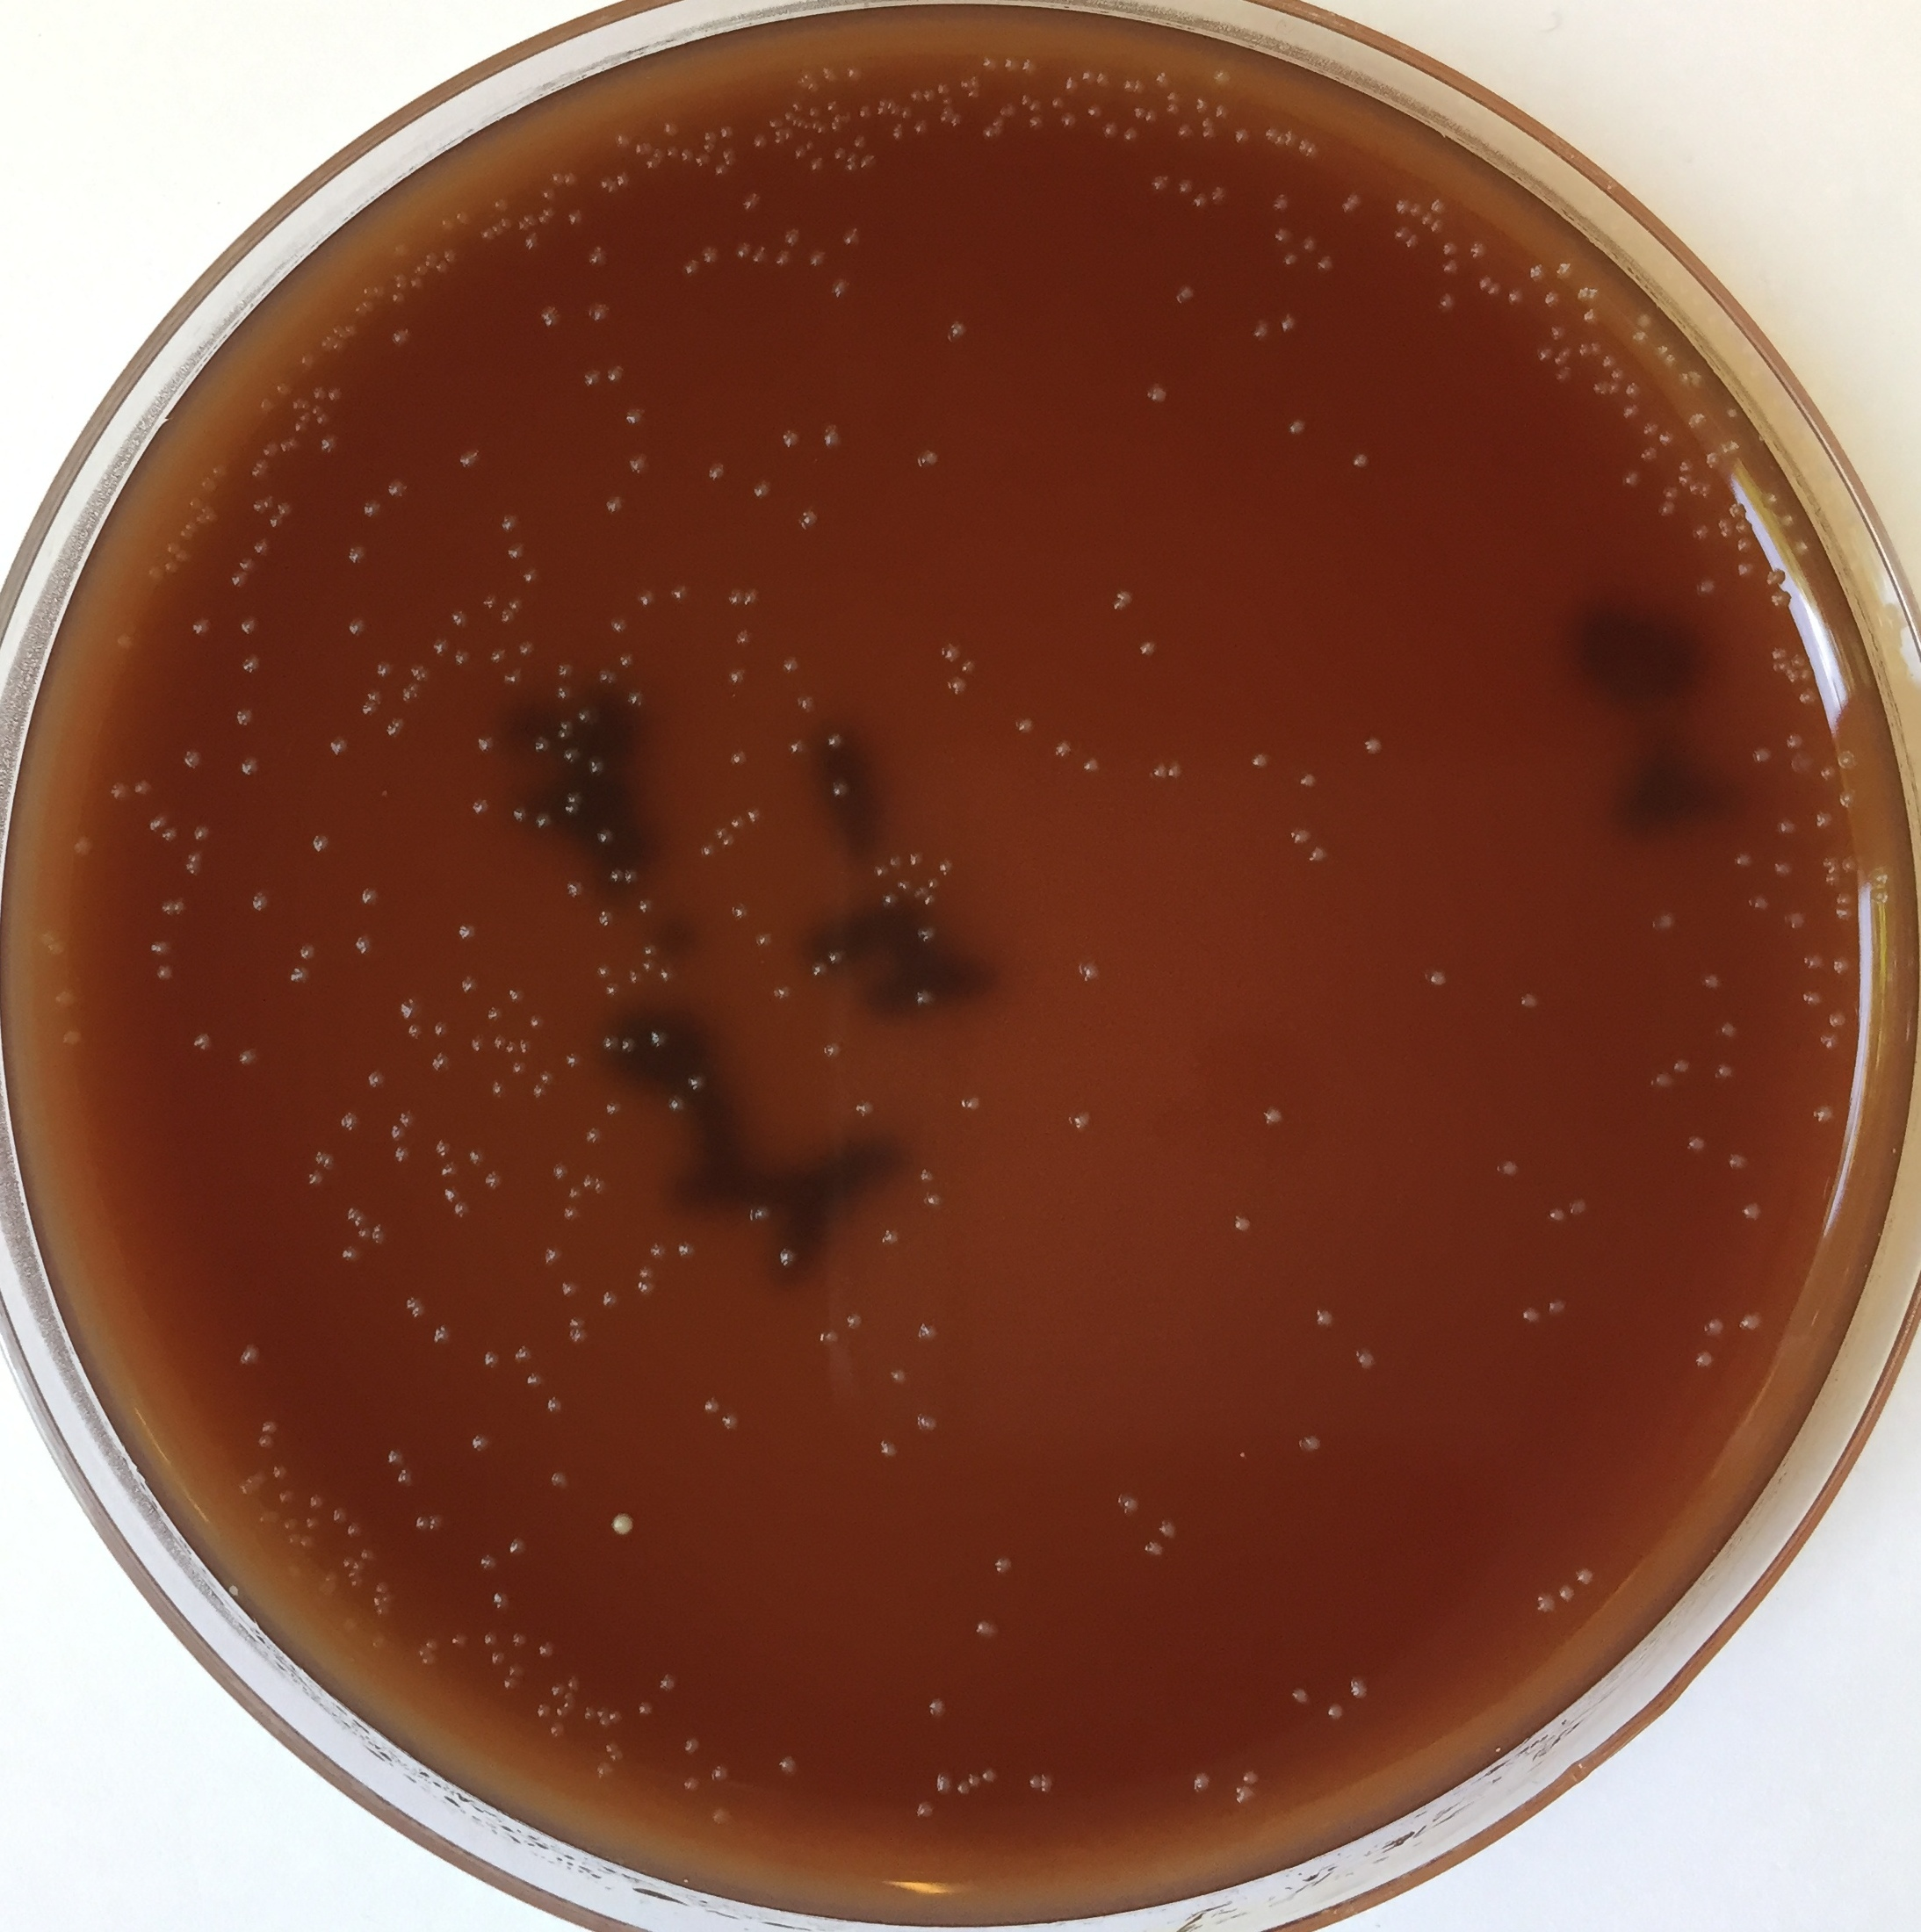sp23: (602, 1504, 640, 1541), (1226, 1211, 1261, 1242), (969, 1615, 999, 1649), (1114, 1489, 1145, 1519), (820, 424, 848, 456), (547, 1154, 573, 1186), (1260, 1101, 1288, 1130), (793, 505, 822, 533), (1648, 910, 1678, 936), (913, 1320, 943, 1346), (1692, 575, 1720, 602), (538, 303, 566, 329), (396, 994, 426, 1019), (1348, 1673, 1372, 1703), (51, 987, 77, 1014), (684, 1068, 711, 1094), (588, 243, 614, 269), (315, 1151, 343, 1175), (913, 1411, 941, 1436), (873, 1436, 901, 1460), (1075, 961, 1103, 985), (577, 702, 602, 730), (922, 1188, 950, 1212), (909, 989, 941, 1010), (60, 1026, 86, 1050), (237, 1343, 264, 1367), (1620, 466, 1647, 491), (1296, 1431, 1323, 1455), (179, 746, 206, 771), (626, 454, 651, 480), (588, 301, 614, 326), (340, 1246, 368, 1269), (932, 1770, 955, 1798), (1156, 1517, 1180, 1541), (1351, 1348, 1376, 1372), (327, 734, 352, 758), (705, 461, 730, 486), (236, 1047, 262, 1070), (542, 1242, 565, 1269), (581, 1126, 607, 1149), (600, 1288, 626, 1311), (990, 1554, 1017, 1577), (646, 1026, 672, 1049), (938, 640, 964, 663), (385, 477, 412, 500), (943, 320, 969, 343), (287, 964, 315, 985), (851, 1098, 880, 1119), (793, 70, 818, 93), (431, 1052, 456, 1075), (336, 1110, 361, 1133), (482, 1170, 507, 1193), (778, 1244, 800, 1269), (707, 1761, 732, 1784), (1536, 1592, 1559, 1617), (1738, 1311, 1763, 1334), (1497, 1158, 1522, 1181), (1740, 1200, 1764, 1223), (1837, 787, 1859, 811), (1866, 864, 1891, 887), (1770, 588, 1794, 611), (565, 878, 589, 901), (345, 544, 369, 567), (310, 831, 332, 855), (107, 781, 132, 804), (248, 890, 271, 915), (354, 933, 376, 957), (1360, 735, 1384, 758), (1425, 964, 1450, 987), (749, 477, 774, 500), (361, 498, 385, 521), (389, 326, 413, 348), (741, 190, 763, 215), (771, 246, 793, 271), (1689, 480, 1715, 501), (1773, 857, 1800, 878), (1279, 311, 1300, 338), (1066, 1109, 1092, 1130), (480, 1348, 503, 1371), (681, 1735, 704, 1758), (915, 1798, 938, 1821), (1189, 1772, 1212, 1795), (1814, 809, 1837, 832), (1764, 565, 1787, 588), (635, 896, 658, 918), (501, 667, 524, 690), (237, 753, 260, 776), (148, 809, 171, 832), (359, 887, 382, 910), (1052, 737, 1075, 760), (239, 614, 262, 637), (1145, 382, 1168, 405), (1284, 415, 1307, 438), (190, 1031, 215, 1052), (398, 1107, 422, 1128), (524, 1369, 545, 1394), (707, 1807, 732, 1828), (1652, 1070, 1676, 1091), (1810, 1103, 1835, 1124), (1782, 908, 1807, 929), (1775, 816, 1800, 838), (1552, 364, 1576, 385), (741, 584, 762, 609), (150, 938, 174, 959), (663, 1094, 688, 1116), (1288, 827, 1312, 848), (779, 428, 800, 452), (915, 449, 939, 470), (581, 368, 605, 389), (507, 540, 531, 561), (677, 259, 702, 280), (440, 1161, 466, 1181), (746, 1204, 772, 1223), (1233, 1784, 1260, 1804), (1518, 1306, 1545, 1325), (939, 106, 962, 127), (830, 111, 851, 134), (259, 1508, 281, 1529), (364, 1068, 387, 1089), (297, 941, 320, 962), (304, 1167, 327, 1188), (391, 1145, 413, 1167), (431, 1137, 454, 1158), (559, 1204, 582, 1225), (558, 1277, 579, 1300), (818, 1328, 841, 1350), (470, 1434, 493, 1455), (345, 1519, 366, 1541), (656, 1673, 679, 1694), (1692, 1348, 1715, 1369), (1699, 971, 1722, 992), (1831, 954, 1854, 975), (1735, 850, 1757, 871), (1747, 892, 1770, 913), (1835, 750, 1856, 772), (1715, 516, 1736, 538), (1525, 262, 1546, 285), (1340, 192, 1363, 213), (1312, 1309, 1333, 1332), (727, 903, 749, 924), (772, 980, 795, 1001), (917, 924, 938, 947), (880, 892, 902, 913), (830, 776, 851, 799), (637, 588, 658, 611), (779, 653, 800, 676), (795, 693, 818, 714), (449, 609, 471, 630), (431, 635, 454, 656), (234, 707, 257, 728), (192, 822, 213, 845), (1305, 845, 1328, 866), (1013, 716, 1036, 737), (948, 674, 971, 695), (623, 406, 646, 428), (605, 493, 628, 514), (459, 447, 482, 468), (829, 276, 850, 299), (925, 1698, 950, 1717), (1573, 1566, 1597, 1585), (1819, 1031, 1844, 1050), (1272, 225, 1296, 245), (1142, 1538, 1166, 1557), (959, 1094, 983, 1114), (728, 746, 748, 771), (785, 737, 809, 757), (132, 776, 157, 795), (345, 1204, 366, 1225), (457, 975, 478, 996), (568, 1325, 589, 1346), (881, 1226, 902, 1248), (267, 1460, 289, 1482), (508, 1536, 530, 1557), (1559, 1582, 1580, 1603), (1703, 1316, 1724, 1337), (1567, 1197, 1589, 1218), (1518, 991, 1539, 1012), (1736, 560, 1757, 581), (1727, 500, 1749, 521), (1435, 294, 1457, 315), (1172, 283, 1193, 304), (1316, 253, 1337, 274), (753, 931, 774, 952), (588, 757, 609, 778), (619, 649, 640, 670), (408, 663, 429, 684), (561, 1050, 582, 1072), (498, 510, 519, 531), (605, 362, 626, 384), (318, 435, 340, 456), (749, 245, 771, 266), (841, 227, 862, 248), (602, 1098, 625, 1117), (674, 1239, 697, 1258), (700, 1395, 723, 1415), (683, 1774, 705, 1793), (776, 1756, 799, 1775), (595, 1761, 617, 1781), (1038, 1774, 1057, 1797), (1546, 1297, 1569, 1316), (1801, 987, 1824, 1006), (1803, 954, 1826, 973), (1796, 688, 1819, 707), (1640, 445, 1662, 465), (1659, 431, 1682, 450), (1175, 176, 1194, 199), (888, 1367, 911, 1387), (595, 827, 617, 846), (1249, 751, 1272, 771), (519, 565, 542, 584), (1349, 452, 1372, 472), (449, 1629, 473, 1647), (656, 964, 681, 982), (1165, 758, 1182, 783), (331, 320, 357, 336), (401, 683, 422, 702), (1757, 489, 1779, 509), (1822, 853, 1842, 875), (340, 1617, 361, 1636), (387, 1124, 408, 1144), (466, 1035, 487, 1054), (452, 1198, 471, 1219), (514, 1343, 533, 1364), (537, 1640, 558, 1659), (1240, 1768, 1261, 1788), (1289, 1687, 1311, 1707), (1719, 1019, 1738, 1040), (1752, 744, 1773, 764), (1840, 853, 1859, 875), (1868, 887, 1889, 906), (1687, 412, 1708, 431), (1661, 482, 1682, 501), (1590, 380, 1611, 399), (1469, 243, 1490, 262), (1281, 252, 1302, 271), (906, 848, 925, 869), (913, 882, 934, 901), (609, 614, 628, 635), (668, 584, 690, 604), (376, 658, 396, 679), (471, 797, 491, 818), (183, 860, 204, 880), (70, 838, 91, 857), (457, 922, 478, 941), (515, 1035, 535, 1056), (619, 1035, 639, 1056), (822, 1040, 841, 1061), (1080, 755, 1101, 774), (1138, 637, 1159, 656), (236, 553, 255, 574), (700, 246, 721, 266), (732, 241, 753, 260), (783, 227, 802, 248), (806, 246, 825, 267), (661, 120, 683, 139), (146, 563, 164, 586), (549, 1471, 572, 1489), (1727, 1153, 1750, 1170), (1543, 289, 1560, 311), (809, 961, 832, 978), (823, 948, 846, 966), (252, 538, 274, 556), (491, 197, 514, 215), (719, 146, 737, 169), (1779, 512, 1798, 531), (408, 1021, 427, 1040), (442, 1184, 461, 1204), (260, 1418, 280, 1438), (331, 1504, 350, 1524), (549, 1721, 568, 1740), (980, 1765, 999, 1784), (1326, 1701, 1346, 1721), (1673, 1057, 1692, 1077), (1830, 1010, 1849, 1029), (1768, 644, 1787, 663), (1691, 523, 1710, 542), (1553, 260, 1573, 280), (1402, 232, 1421, 252), (1428, 197, 1448, 216), (1149, 174, 1168, 194), (1302, 234, 1321, 253), (1103, 120, 1122, 139), (1096, 70, 1115, 90), (531, 735, 551, 755), (596, 908, 616, 927), (628, 688, 647, 707), (475, 734, 494, 753), (735, 626, 755, 646), (727, 665, 746, 684), (1150, 762, 1170, 781), (522, 232, 542, 252), (774, 128, 795, 146), (318, 1580, 340, 1598), (468, 1147, 489, 1165), (431, 1327, 452, 1344), (385, 1448, 406, 1466), (510, 1631, 531, 1649), (1685, 1133, 1706, 1151), (1784, 732, 1805, 750), (1833, 890, 1854, 908), (1720, 442, 1742, 459), (1534, 345, 1555, 362), (1546, 324, 1567, 341), (936, 859, 957, 876), (727, 586, 744, 607), (241, 655, 262, 672), (510, 1059, 531, 1077), (1114, 586, 1135, 604), (190, 616, 211, 633), (266, 514, 287, 531), (155, 964, 178, 980), (369, 1633, 389, 1650), (487, 1080, 507, 1098), (357, 1225, 376, 1242), (568, 1314, 588, 1332), (639, 1263, 658, 1281), (646, 1240, 665, 1258), (844, 1313, 864, 1330), (255, 1432, 274, 1450), (276, 1487, 296, 1504), (396, 1467, 415, 1485), (426, 1513, 443, 1533), (480, 1554, 500, 1571), (482, 1629, 500, 1649), (507, 1661, 526, 1679), (637, 1700, 656, 1717), (1715, 1059, 1733, 1079), (1787, 653, 1807, 670), (1703, 450, 1720, 470), (1678, 456, 1696, 475), (1675, 470, 1694, 487), (1622, 403, 1641, 421), (1624, 382, 1643, 399), (1601, 354, 1620, 371), (1506, 289, 1525, 306), (1486, 283, 1506, 301), (1634, 313, 1652, 333), (1391, 225, 1411, 243), (1395, 197, 1413, 216), (1427, 218, 1444, 238), (1272, 194, 1289, 213), (1166, 90, 1186, 107), (1154, 72, 1172, 91), (1131, 79, 1150, 97), (1064, 76, 1082, 95), (1019, 56, 1038, 74), (744, 806, 762, 825), (825, 730, 844, 748), (533, 811, 552, 829), (623, 866, 640, 885), (452, 648, 471, 665), (498, 607, 517, 625), (508, 595, 528, 612), (368, 686, 385, 706), (160, 823, 178, 843), (602, 1033, 619, 1052), (276, 498, 294, 517), (278, 380, 296, 399), (292, 421, 311, 438), (565, 208, 584, 225), (477, 231, 494, 250), (440, 216, 459, 234), (843, 65, 862, 83), (858, 151, 876, 171), (614, 132, 633, 150), (1235, 1445, 1251, 1466), (486, 1006, 507, 1022), (719, 1413, 741, 1429), (1254, 320, 1270, 341), (978, 56, 999, 72), (959, 79, 980, 95), (561, 746, 582, 762), (565, 790, 586, 806), (1296, 772, 1318, 788), (1027, 1770, 1041, 1793), (292, 396, 310, 413), (1689, 373, 1706, 391), (301, 1534, 318, 1552), (600, 176, 617, 194), (303, 1513, 320, 1531), (535, 1701, 552, 1719), (609, 1709, 626, 1726), (1819, 765, 1837, 783), (1643, 421, 1661, 438), (1631, 329, 1648, 347), (1441, 259, 1458, 276), (997, 100, 1015, 118), (894, 875, 911, 892), (642, 943, 660, 961), (728, 815, 746, 832), (519, 639, 537, 656), (556, 683, 573, 700), (480, 593, 498, 611), (348, 618, 366, 635), (595, 962, 612, 980), (605, 978, 623, 996), (528, 1014, 545, 1031), (538, 1068, 556, 1086), (832, 144, 850, 162), (320, 334, 336, 354), (114, 633, 134, 649), (1724, 406, 1740, 426), (37, 931, 56, 947), (431, 1021, 450, 1036), (566, 1184, 586, 1200), (593, 1177, 609, 1197), (413, 1510, 429, 1529), (966, 1772, 982, 1791), (1546, 1207, 1566, 1223), (1835, 906, 1854, 922), (1770, 656, 1789, 672), (1793, 537, 1808, 556), (1736, 535, 1756, 551), (1735, 517, 1754, 533), (1657, 500, 1676, 516), (1476, 274, 1492, 294), (1581, 306, 1597, 326), (1214, 104, 1230, 123), (1175, 123, 1194, 139), (1059, 113, 1078, 128), (966, 88, 985, 104), (489, 648, 508, 663), (558, 662, 573, 681), (383, 723, 403, 739), (171, 896, 186, 915), (508, 985, 528, 1001), (324, 387, 343, 403), (522, 213, 542, 229), (246, 1471, 267, 1485), (403, 1295, 424, 1309), (1194, 95, 1209, 116), (260, 493, 274, 514), (410, 276, 431, 290), (749, 134, 771, 148), (823, 99, 841, 114), (392, 241, 410, 257), (334, 338, 352, 354), (299, 352, 315, 370), (176, 526, 192, 544), (49, 945, 67, 961), (491, 1031, 507, 1049), (579, 1172, 595, 1189), (637, 1281, 654, 1297), (359, 1547, 376, 1562), (340, 1554, 355, 1571), (489, 1650, 507, 1666), (582, 1703, 598, 1721), (953, 1781, 971, 1797), (1652, 343, 1668, 361), (1661, 352, 1678, 368), (1608, 380, 1625, 396), (1578, 341, 1594, 359), (1590, 343, 1608, 359), (1194, 192, 1210, 209), (1210, 187, 1228, 202), (1212, 69, 1230, 84), (1235, 127, 1251, 144), (1133, 104, 1149, 121), (1124, 125, 1140, 143), (908, 90, 924, 107), (980, 123, 996, 141), (873, 864, 890, 880), (887, 855, 904, 871), (698, 841, 716, 857), (721, 832, 737, 850), (565, 802, 582, 818), (607, 867, 623, 885), (558, 728, 575, 744), (362, 702, 380, 718), (626, 968, 642, 985), (960, 658, 976, 676), (262, 443, 280, 459), (259, 398, 276, 413), (201, 479, 218, 494), (435, 259, 452, 274), (807, 157, 825, 172), (635, 141, 653, 157), (616, 169, 632, 187), (822, 63, 836, 83), (241, 1482, 260, 1496), (1305, 141, 1319, 160), (1675, 370, 1689, 389), (1265, 123, 1279, 143), (250, 496, 264, 516), (359, 285, 375, 301), (308, 1492, 324, 1508), (501, 1677, 517, 1693), (1610, 366, 1625, 382), (1585, 287, 1601, 303), (1407, 202, 1423, 218), (1418, 211, 1434, 227), (1166, 102, 1182, 118), (1003, 56, 1019, 72), (922, 88, 938, 104), (186, 848, 202, 864), (158, 899, 174, 915), (503, 1040, 519, 1056), (918, 1168, 934, 1184), (232, 572, 248, 588), (442, 248, 457, 264), (718, 125, 734, 141), (712, 160, 728, 176), (851, 134, 867, 150), (693, 151, 709, 167), (679, 148, 695, 164), (665, 144, 681, 160), (412, 264, 429, 278), (281, 438, 299, 452), (211, 461, 225, 479), (165, 538, 179, 556), (491, 1591, 508, 1605), (568, 1675, 582, 1693), (549, 1682, 563, 1700), (603, 1740, 621, 1754), (1576, 287, 1590, 304), (1441, 241, 1458, 255), (1085, 104, 1103, 118), (924, 892, 941, 906), (250, 466, 267, 480), (297, 410, 315, 424), (188, 496, 206, 510), (547, 171, 565, 185), (396, 273, 408, 292), (164, 560, 176, 579), (514, 804, 526, 823), (860, 100, 873, 120), (202, 510, 218, 524), (176, 551, 190, 567), (1824, 875, 1840, 889), (285, 1517, 301, 1531), (1284, 128, 1295, 150), (547, 1399, 561, 1415), (424, 1636, 440, 1650), (1801, 667, 1815, 683), (1122, 77, 1136, 93), (1143, 109, 1159, 123), (1080, 69, 1094, 84), (1027, 116, 1043, 130), (1027, 99, 1043, 113), (925, 876, 941, 890), (533, 1082, 547, 1098), (1114, 600, 1129, 614), (315, 413, 329, 429), (310, 403, 325, 417), (313, 385, 327, 401), (456, 211, 470, 227), (702, 128, 718, 143), (287, 1531, 299, 1548), (609, 1751, 626, 1763), (558, 718, 575, 730), (767, 116, 785, 128), (807, 106, 825, 118), (793, 144, 806, 162), (876, 97, 885, 120), (354, 304, 368, 318), (1787, 669, 1801, 683), (413, 1304, 427, 1318), (1050, 95, 1064, 109), (642, 957, 656, 971), (391, 716, 405, 730), (391, 290, 405, 304), (544, 187, 558, 201), (938, 81, 950, 97), (424, 252, 436, 267), (1202, 116, 1214, 132), (911, 120, 927, 132), (714, 825, 727, 841), (596, 667, 609, 683), (804, 137, 816, 153), (565, 172, 577, 188), (375, 283, 385, 301), (899, 106, 911, 120), (378, 1606, 392, 1619), (383, 1592, 398, 1605), (350, 1578, 364, 1591), (646, 158, 658, 172), (501, 215, 514, 229), (375, 1580, 389, 1592), (420, 1645, 435, 1658), (253, 457, 267, 470), (517, 218, 530, 232), (422, 1656, 438, 1666), (996, 118, 1004, 135), (885, 99, 897, 111), (192, 514, 204, 526), (325, 1568, 338, 1580), (702, 141, 714, 153), (1202, 128, 1216, 139), (1020, 91, 1031, 106), (939, 97, 955, 106), (1300, 137, 1309, 153), (888, 106, 899, 118), (792, 116, 804, 127), (781, 109, 792, 121), (361, 301, 373, 311), (183, 523, 195, 533), (892, 128, 902, 141), (347, 1571, 361, 1580), (792, 102, 802, 113), (491, 223, 501, 234), (373, 1596, 383, 1606), (538, 215, 549, 225), (818, 121, 827, 134), (811, 118, 820, 130), (544, 208, 556, 216), (848, 164, 855, 178), (653, 150, 661, 160), (804, 120, 811, 130), (1277, 135, 1284, 146)
